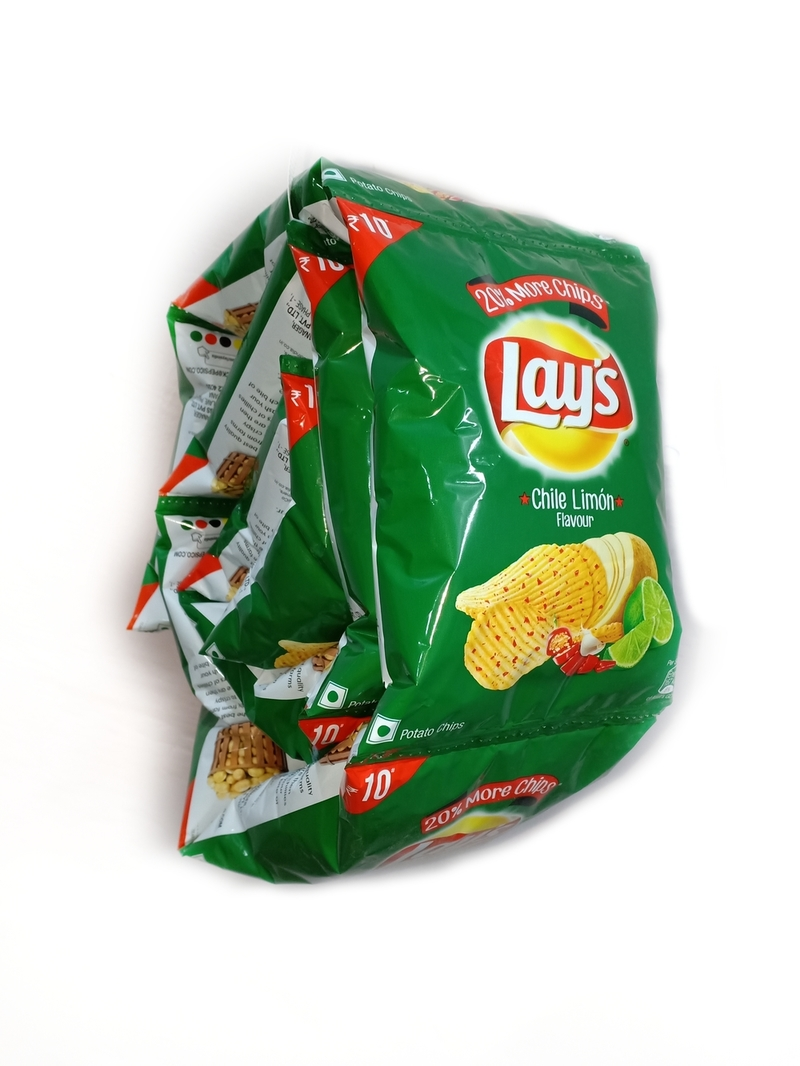plastic: (345, 182, 686, 748), (177, 750, 677, 893), (132, 194, 285, 629), (283, 254, 385, 706)
